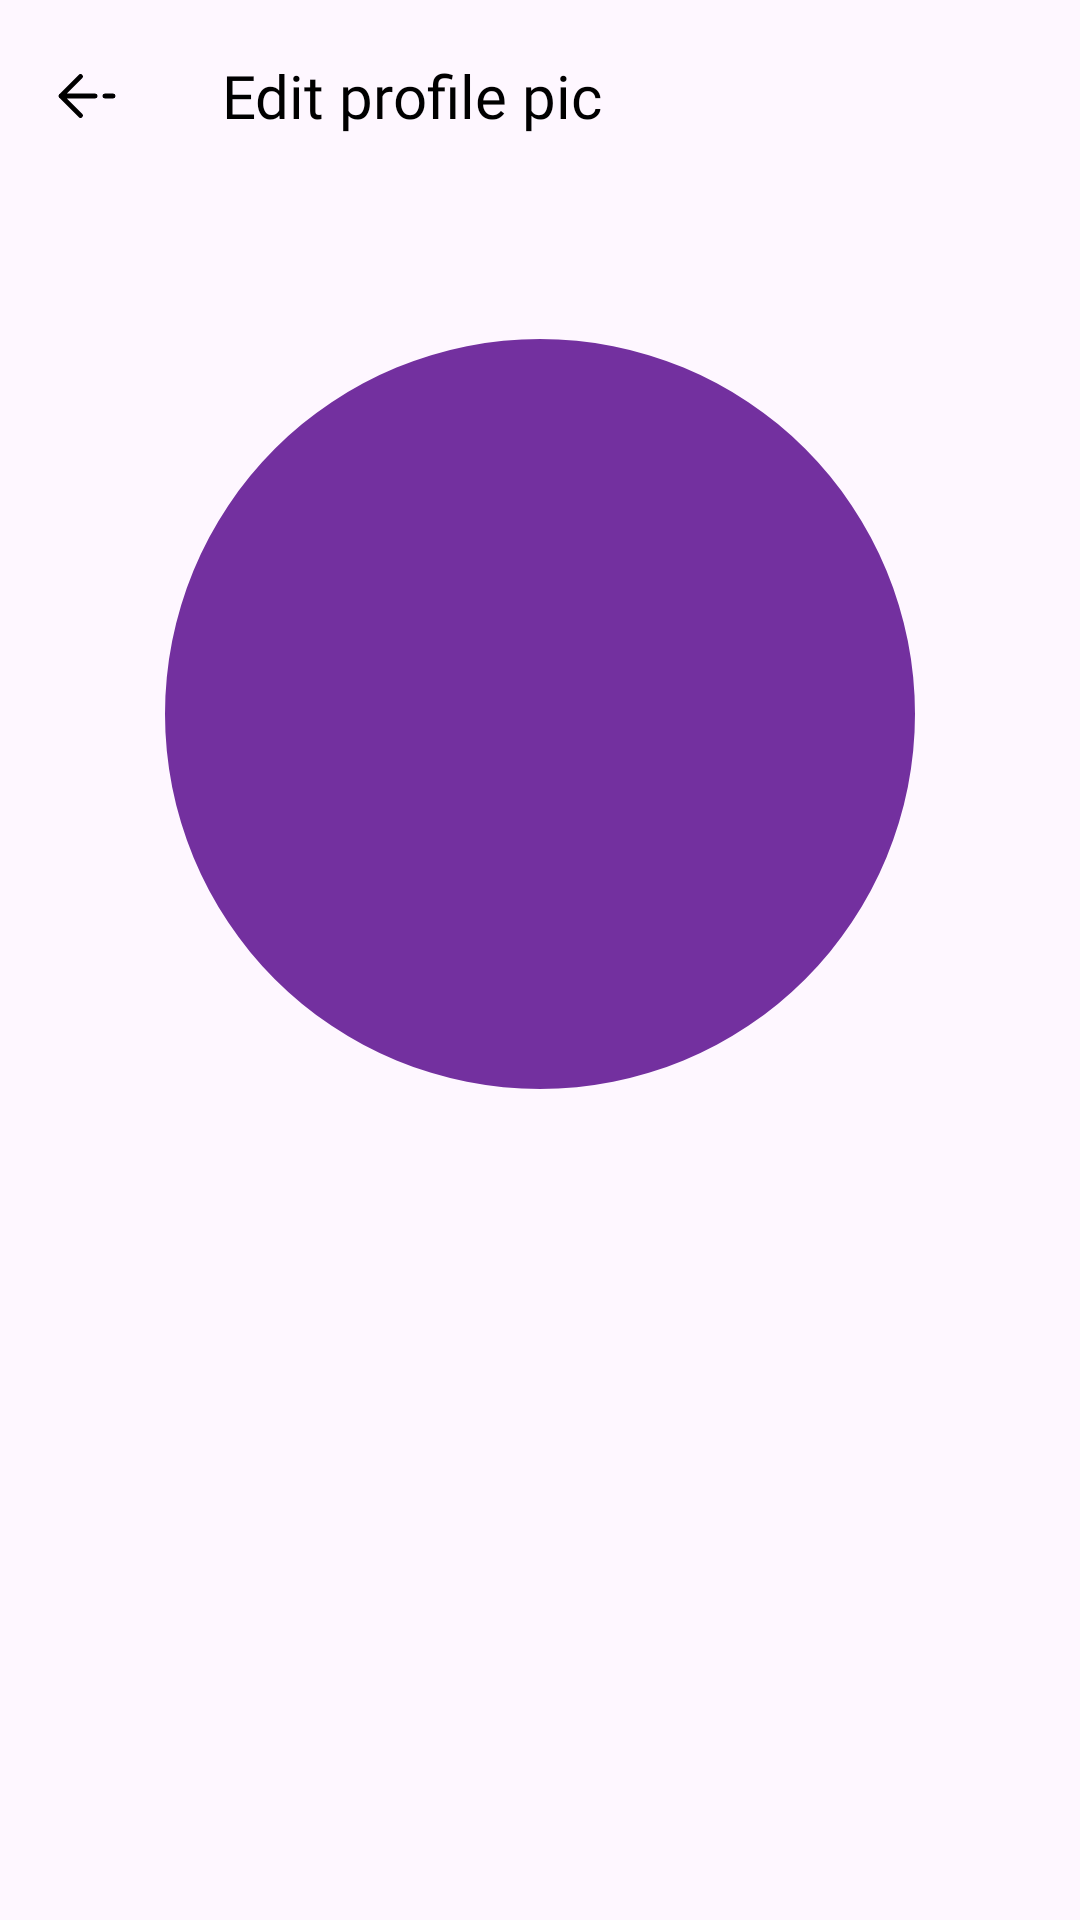

Screen size 1080 × 1920. Icon name, then its box in pixels as (x1, y1, x2, y2):
back: (58, 74, 116, 118)
